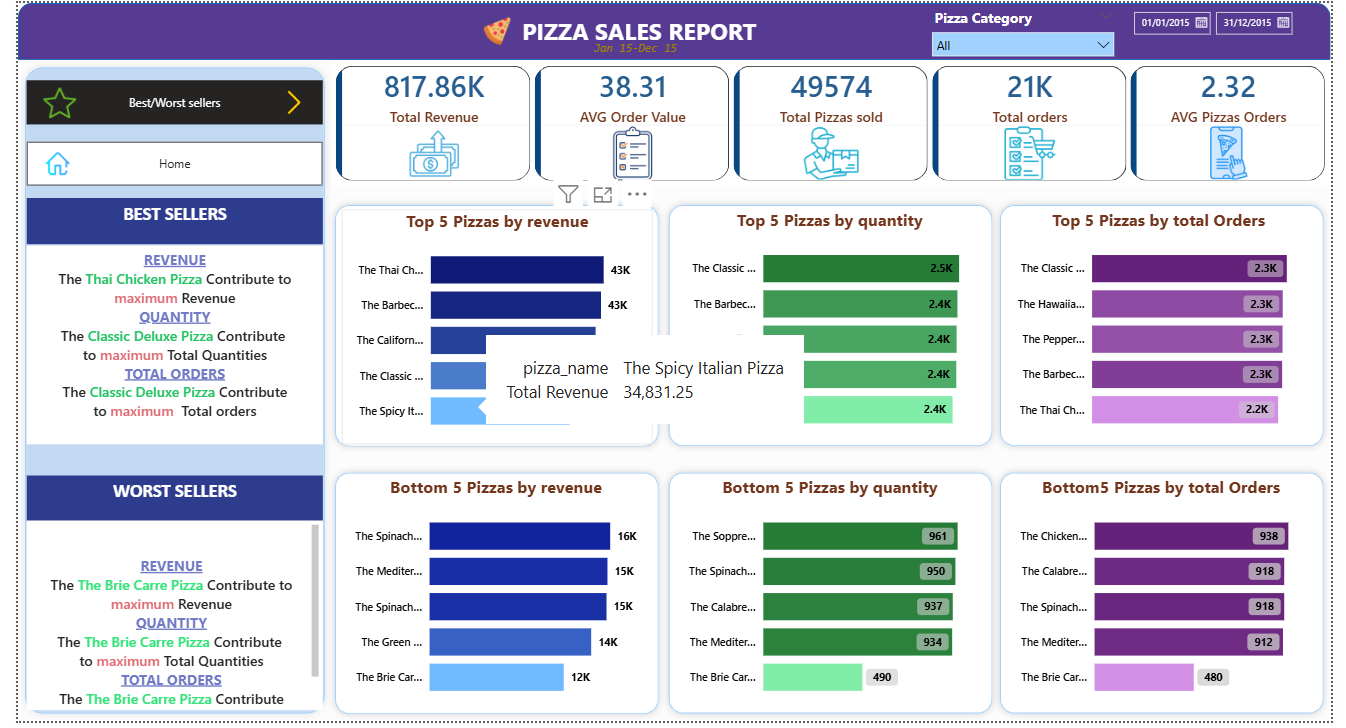

This screenshot's page, from the dashboard's own definition file:
{"tool":"powerbi","page":{"name":"Best/Worst sellers","canvas":[1500,820],"ordinal":1},"visuals":[{"type":"shape","box":[0,65.7,358.6,754.3],"z":0},{"type":"cardVisual","fields":{"Data":["pizza_sales.Total Revenue","pizza_sales.AVG Order Value","pizza_sales.Total Pizzas sold","pizza_sales.Total orders","pizza_sales.AVG Pizzas Orders"]},"box":[358.6,67.1,1141.4,141.4],"z":1000},{"type":"shape","box":[0,0,1500,65],"z":2000},{"type":"textbox","box":[565,8.8,288.8,47.5],"z":3000},{"type":"textbox","box":[652.5,37.5,115,36.2],"z":4000},{"type":"image","box":[530,16.2,35,32.5],"z":5000},{"type":"shape","box":[354.3,222.9,385.7,292],"z":6000},{"type":"textbox","box":[10,222.9,338.6,52.9],"z":7000},{"type":"textbox","box":[10,277.1,338.6,227.1],"z":8000},{"type":"textbox","box":[10,540,338.6,52.9],"z":9000},{"type":"textbox","box":[10,591.4,338.6,217.1],"z":10000},{"type":"slicer","fields":{"Values":["pizza_sales.pizza_category"]},"box":[1034.3,0,228.6,65.7],"z":11000},{"type":"slicer","fields":{"Values":["pizza_sales.order_date"]},"box":[1262.9,0,218.6,65.7],"z":12000},{"type":"shape","box":[735.7,222.9,385.7,291.4],"z":13000},{"type":"shape","box":[1114.3,222.9,385.7,291.4],"z":14000},{"type":"shape","box":[354.3,528.6,385.7,292],"z":15000},{"type":"shape","box":[735.7,528.6,385.7,291.4],"z":16000},{"type":"shape","box":[1114.3,528.6,385.7,291.4],"z":17000},{"type":"barChart","title":"Top 5 Pizzas by revenue","fields":{"Category":["pizza_sales.pizza_name"],"Y":["pizza_sales.Total Revenue"]},"box":[370,235.7,355.7,268.6],"z":18000},{"type":"barChart","title":"Bottom 5 Pizzas by revenue","fields":{"Category":["pizza_sales.pizza_name"],"Y":["pizza_sales.Total Revenue"]},"box":[368.6,540,355.7,268.6],"z":19000},{"type":"barChart","title":"Top 5 Pizzas by quantity","fields":{"Category":["pizza_sales.pizza_name"],"Y":["pizza_sales.Total Pizzas sold"]},"box":[750,234.3,355.7,268.6],"z":20000},{"type":"barChart","title":"Bottom 5 Pizzas by quantity","fields":{"Category":["pizza_sales.pizza_name"],"Y":["pizza_sales.Total Pizzas sold"]},"box":[750,540,355.7,268.6],"z":21000},{"type":"barChart","title":"Top 5 Pizzas by total Orders","fields":{"Category":["pizza_sales.pizza_name"],"Y":["pizza_sales.Total orders"]},"box":[1125.7,234.3,355.7,268.6],"z":22000},{"type":"barChart","title":"Bottom5 Pizzas by total Orders","fields":{"Category":["pizza_sales.pizza_name"],"Y":["pizza_sales.Total orders"]},"box":[1128.6,540,355.7,268.6],"z":23000},{"type":"pageNavigator","box":[10,88.6,338.6,50],"z":24000},{"type":"image","box":[295.7,100,40,27.1],"z":25000},{"type":"pageNavigator","box":[10,158.6,338.6,50],"z":26000},{"type":"image","box":[21.4,170,48.6,27.1],"z":27000},{"type":"image","box":[25.7,95.7,44.3,37.1],"z":27001}]}

Visuals, with their boxes in screenshot pixels (x1, y1, x2, y2), scaled from the page's 1500x820 canvas onto the 1346x728 screenshot:
shape: 0, 58, 322, 727
cardVisual - pizza_sales.Total Revenue x pizza_sales.AVG Order Value: 322, 60, 1345, 185
shape: 0, 0, 1345, 58
textbox: 507, 8, 766, 50
textbox: 586, 33, 689, 65
image: 476, 14, 507, 43
shape: 318, 198, 664, 457
textbox: 9, 198, 313, 245
textbox: 9, 246, 313, 448
textbox: 9, 479, 313, 526
textbox: 9, 525, 313, 718
slicer - pizza_sales.pizza_category: 928, 0, 1133, 58
slicer - pizza_sales.order_date: 1133, 0, 1329, 58
shape: 660, 198, 1006, 457
shape: 1000, 198, 1345, 457
shape: 318, 469, 664, 727
shape: 660, 469, 1006, 727
shape: 1000, 469, 1345, 727
"Top 5 Pizzas by revenue" barChart: 332, 209, 651, 448
"Bottom 5 Pizzas by revenue" barChart: 331, 479, 650, 718
"Top 5 Pizzas by quantity" barChart: 673, 208, 992, 446
"Bottom 5 Pizzas by quantity" barChart: 673, 479, 992, 718
"Top 5 Pizzas by total Orders" barChart: 1010, 208, 1329, 446
"Bottom5 Pizzas by total Orders" barChart: 1013, 479, 1332, 718
pageNavigator: 9, 79, 313, 123
image: 265, 89, 301, 113
pageNavigator: 9, 141, 313, 185
image: 19, 151, 63, 175
image: 23, 85, 63, 118
